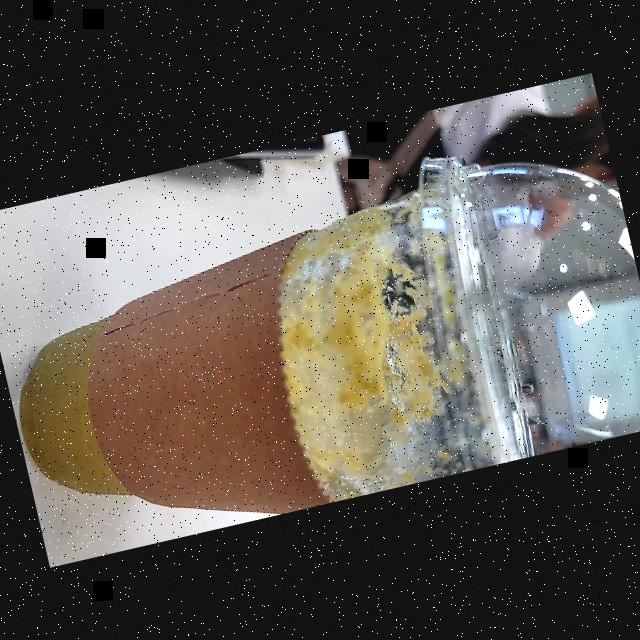plastic_cup: (0, 116, 640, 567)
plastic_cup_lid: (389, 116, 640, 472)
